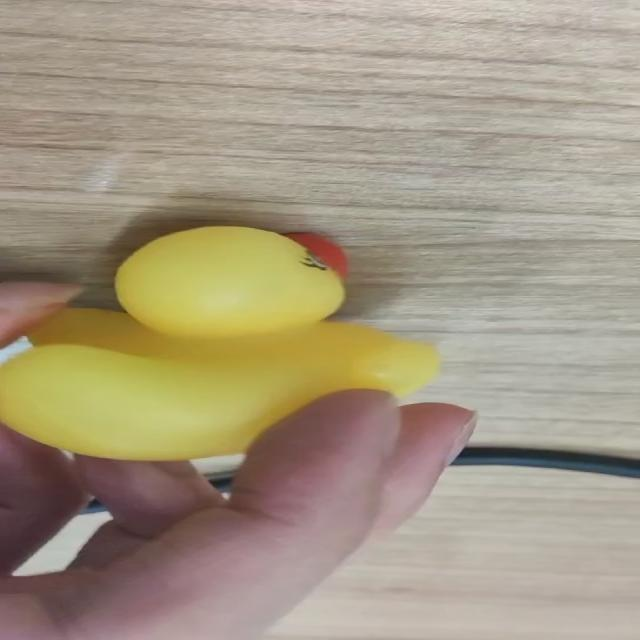rubber-duck: (0, 225, 437, 458)
